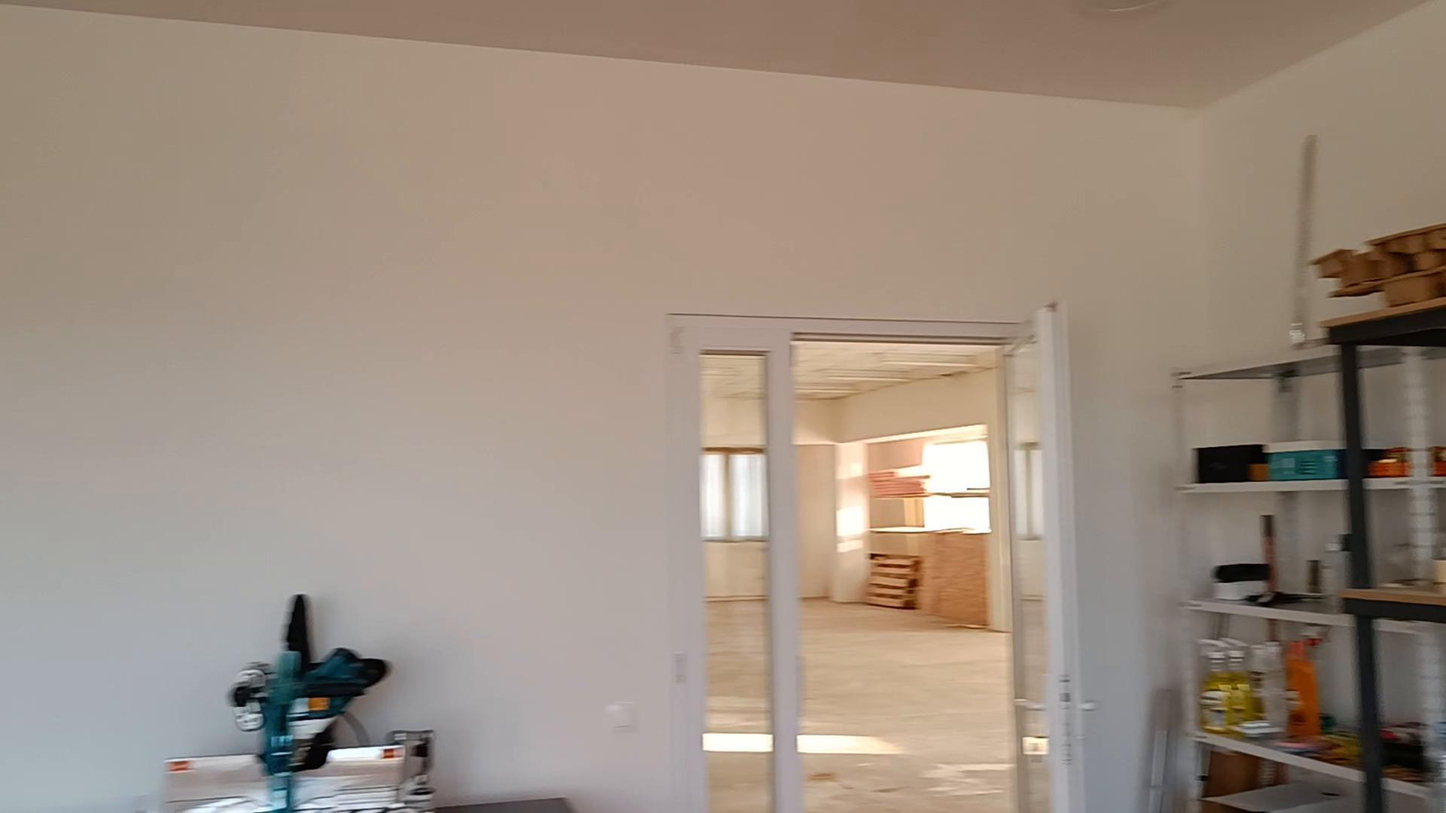ceiling: (0, 10, 1427, 118)
floor: (799, 601, 1014, 812)
wall: (0, 0, 1445, 812)
